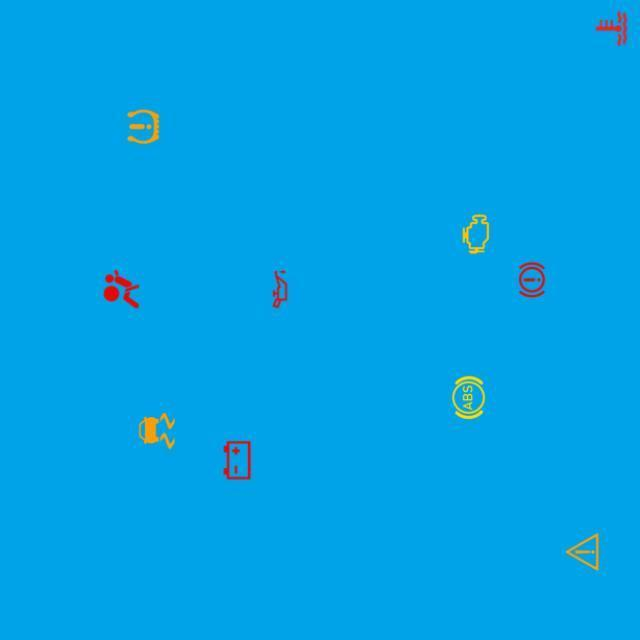High Engine Coolant Temperature: (588, 5, 635, 52)
